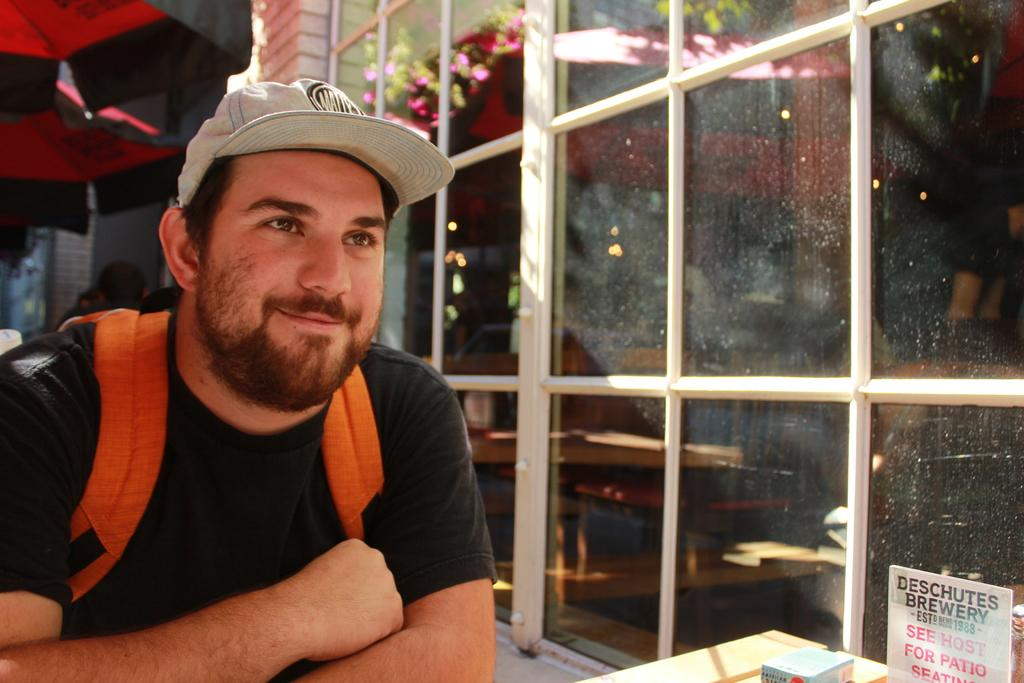Hat: (176, 72, 453, 206)
